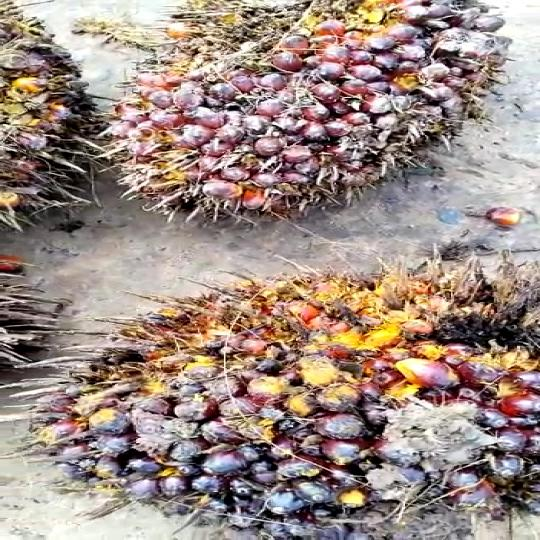masak: (28, 269, 540, 540), (130, 0, 521, 232)
